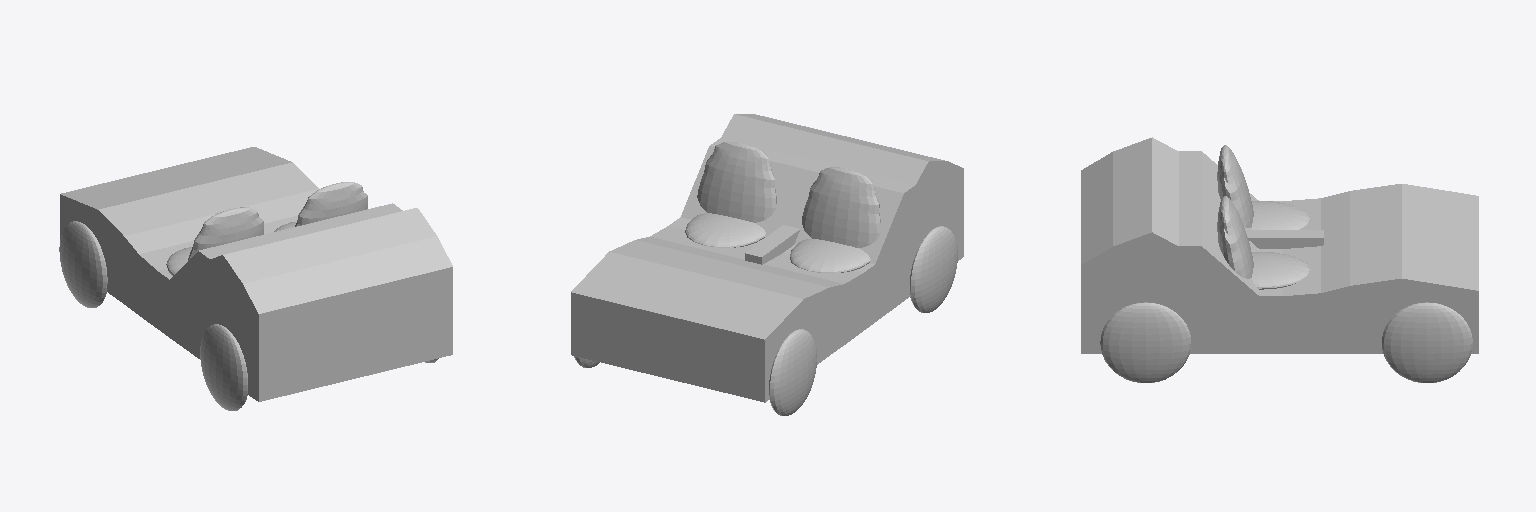
File: Car.obj
3 views of the same model, side by side, from view 1: azimuth 30°, elevation 25°; view 2: azimuth 150°, elevation 25°; view 3: azimuth 270°, elevation 25° (orthographic).
Visible parts, largest first — view 1: pCube3; view 2: pCube3; view 3: pCube3.
Boxes of the visible parts, <box> form: pCube3: <box>59,147,452,410</box>; pCube3: <box>571,114,963,415</box>; pCube3: <box>1081,137,1478,382</box>.
Size of the model in its own units: 4.18 by 2.94 by 6.69.